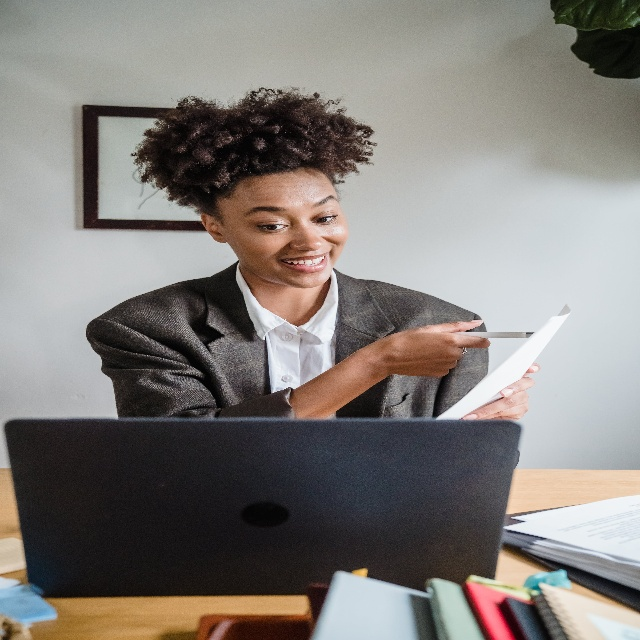Sin_guantes: (383, 317, 491, 377), (460, 362, 541, 423)
